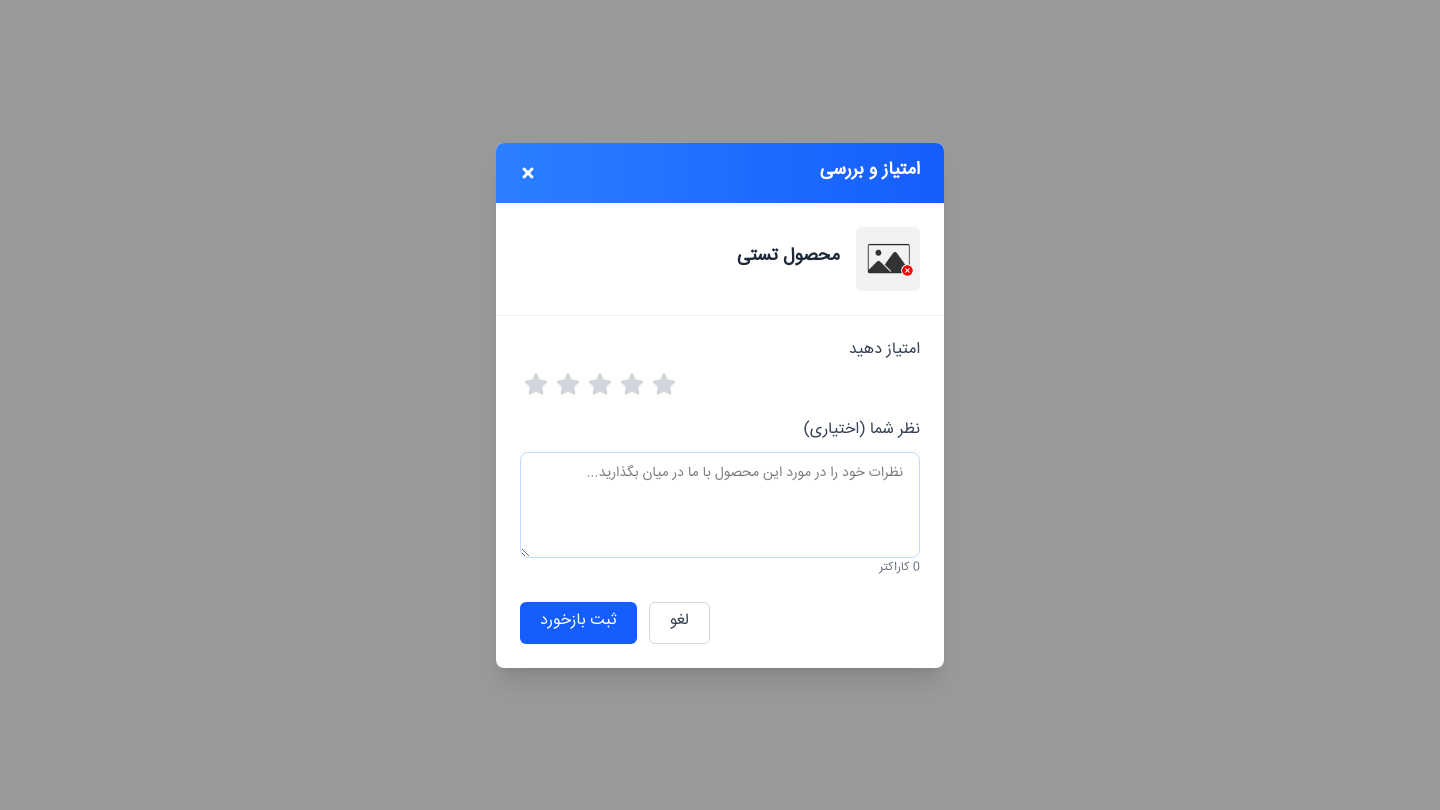
Test: ProductReview Component › allows selecting a rating by clicking stars
Click the button named "rate": coordinates (598, 384) [584,372,612,396]
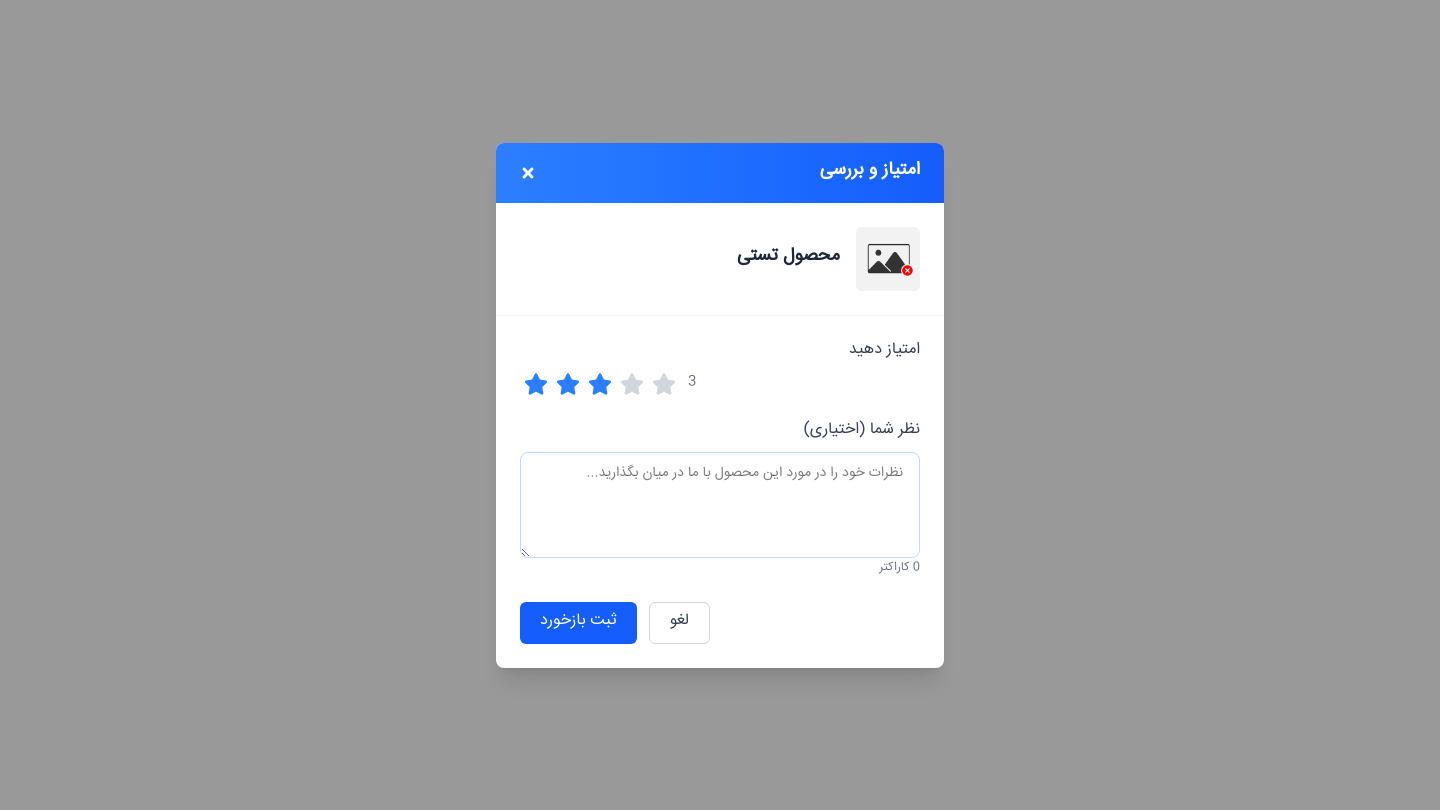
Now the text "3" is shown, box [688,374,696,394]
